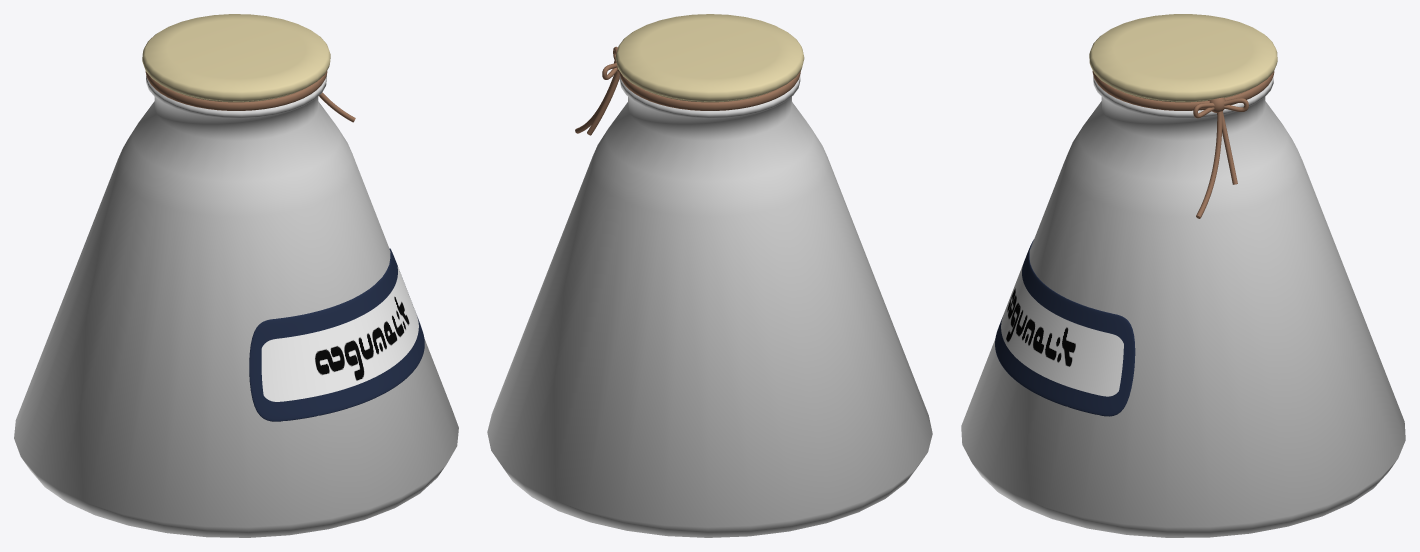
The model's file is milk.fbx.
3 renders of one model, left to right at view 1: azimuth 30°, elevation 25°; view 2: azimuth 150°, elevation 25°; view 3: azimuth 270°, elevation 25°, orthographic.
Visible parts, largest first — view 1: milk, label, Cylinder.001, rope; view 2: milk, Cylinder.001, rope; view 3: milk, label, Cylinder.001, rope.
Part boxes in pixels (x1,y1,x2,y2): milk: (14,75,458,537); label: (249,248,424,421); Cylinder.001: (142,14,330,102); rope: (145,70,355,122); milk: (487,75,932,537); Cylinder.001: (615,14,804,102); rope: (575,46,800,135); milk: (961,76,1405,537); label: (995,239,1135,416); Cylinder.001: (1089,14,1277,102); rope: (1092,71,1274,218).
Bounding box in the file's own units: 83.58 × 83.61 × 83.58.
